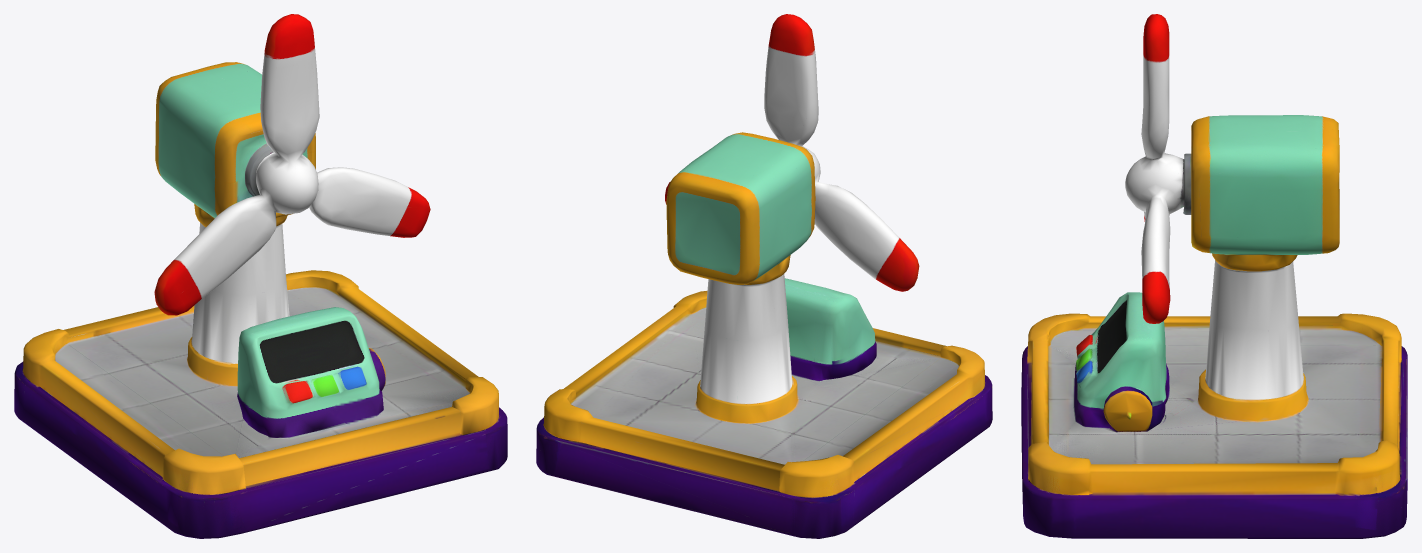
Rendered from model_wind_01.glb.
The picture shows the model from 3 angles, left to right: view 1: azimuth 30°, elevation 25°; view 2: azimuth 150°, elevation 25°; view 3: azimuth 270°, elevation 25°; orthographic projection. The views are drawn at different scales.
Size of the model in its own units: 1.51 by 1.91 by 1.51.
Materials: 1 (1 with a texture image).
